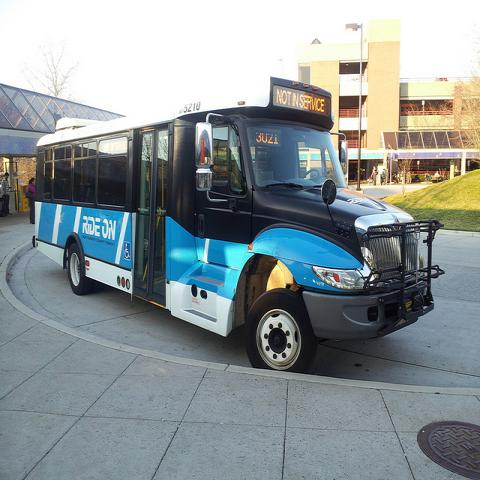bus: (34, 78, 438, 372)
